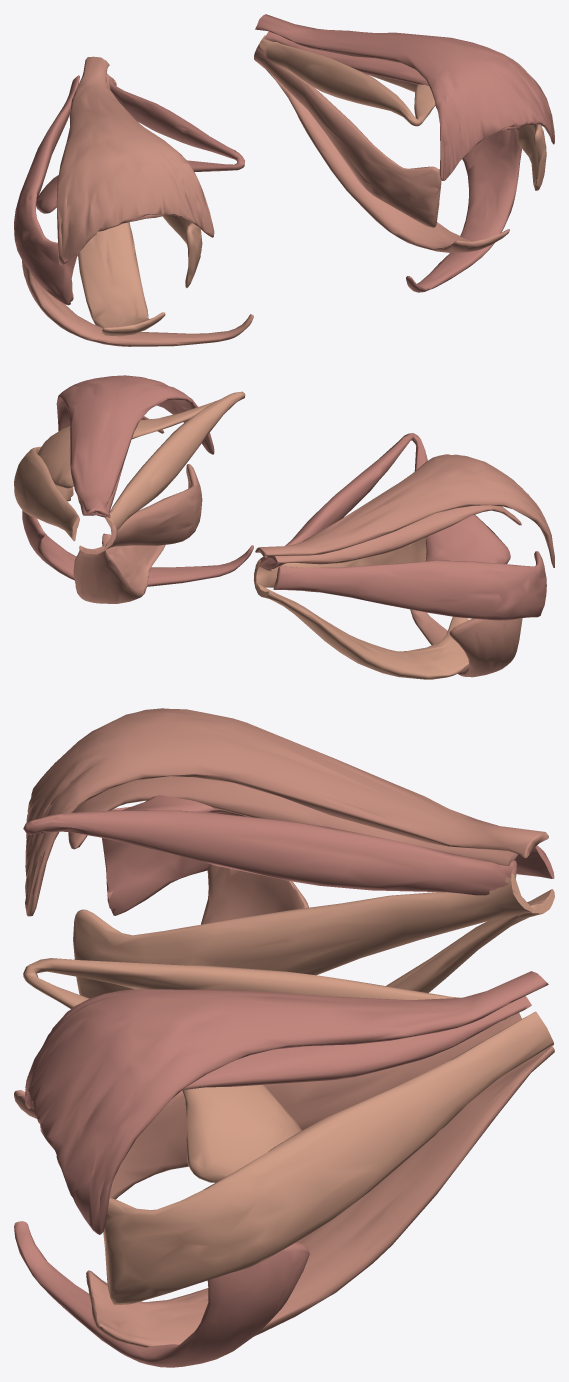
File: extraocular-muscles.glb
3 views of the same model, one above another, from view 1: azimuth 30°, elevation 25°; view 2: azimuth 150°, elevation 25°; view 3: azimuth 270°, elevation 25° (orthographic). The views are drawn at different scales.
Parts seen in each view (by area): view 1: FJ1357 Right levator palpebrae superioris, FJ1306 Left levator palpebrae superioris, FJ1308 Left medial rectus, FJ1294 Left inferior oblique, FJ1346 Right inferior rectus, FJ1355 Right lateral rectus, FJ1322 Left superior oblique, FJ1295 Left inferior rectus, FJ1373 Right superior oblique, FJ1345 Right inferior oblique, FJ1323 Left superior rectus, FJ1304 Left lateral rectus (+1 smaller); view 2: FJ1355 Right lateral rectus, FJ1357 Right levator palpebrae superioris, FJ1306 Left levator palpebrae superioris, FJ1322 Left superior oblique, FJ1373 Right superior oblique, FJ1346 Right inferior rectus, FJ1295 Left inferior rectus, FJ1308 Left medial rectus, FJ1345 Right inferior oblique, FJ1374 Right superior rectus, FJ1304 Left lateral rectus, FJ1294 Left inferior oblique (+1 smaller); view 3: FJ1306 Left levator palpebrae superioris, FJ1304 Left lateral rectus, FJ1357 Right levator palpebrae superioris, FJ1373 Right superior oblique, FJ1359 Right medial rectus, FJ1295 Left inferior rectus, FJ1322 Left superior oblique, FJ1294 Left inferior oblique, FJ1308 Left medial rectus, FJ1323 Left superior rectus, FJ1374 Right superior rectus, FJ1355 Right lateral rectus (+2 smaller).
Part boxes in pixels (<box>): FJ1357 Right levator palpebrae superioris: <box>56,56,214,264</box>; FJ1306 Left levator palpebrae superioris: <box>255,14,554,180</box>; FJ1308 Left medial rectus: <box>254,43,441,227</box>; FJ1294 Left inferior oblique: <box>406,129,521,292</box>; FJ1346 Right inferior rectus: <box>78,222,165,336</box>; FJ1355 Right lateral rectus: <box>14,75,79,305</box>; FJ1322 Left superior oblique: <box>260,35,435,126</box>; FJ1295 Left inferior rectus: <box>256,61,509,252</box>; FJ1373 Right superior oblique: <box>36,76,244,213</box>; FJ1345 Right inferior oblique: <box>22,260,253,346</box>; FJ1323 Left superior rectus: <box>264,31,520,133</box>; FJ1304 Left lateral rectus: <box>365,73,546,190</box>; FJ1355 Right lateral rectus: <box>273,551,546,620</box>; FJ1357 Right levator palpebrae superioris: <box>255,454,554,567</box>; FJ1306 Left levator palpebrae superioris: <box>56,375,214,516</box>; FJ1322 Left superior oblique: <box>38,391,245,529</box>; FJ1373 Right superior oblique: <box>259,433,510,570</box>; FJ1346 Right inferior rectus: <box>255,583,468,679</box>; FJ1295 Left inferior rectus: <box>73,533,165,603</box>; FJ1308 Left medial rectus: <box>104,464,202,549</box>; FJ1345 Right inferior oblique: <box>410,609,522,677</box>; FJ1374 Right superior rectus: <box>266,505,521,564</box>; FJ1304 Left lateral rectus: <box>14,446,79,541</box>; FJ1294 Left inferior oblique: <box>22,510,253,586</box>; FJ1306 Left levator palpebrae superioris: <box>24,971,548,1234</box>; FJ1304 Left lateral rectus: <box>103,1011,553,1304</box>; FJ1357 Right levator palpebrae superioris: <box>25,708,548,916</box>; FJ1373 Right superior oblique: <box>23,795,516,895</box>; FJ1359 Right medial rectus: <box>73,873,532,998</box>; FJ1295 Left inferior rectus: <box>86,1046,554,1347</box>; FJ1322 Left superior oblique: <box>23,958,508,1182</box>; FJ1294 Left inferior oblique: <box>14,1221,309,1367</box>; FJ1308 Left medial rectus: <box>109,1013,521,1199</box>; FJ1323 Left superior rectus: <box>183,996,531,1089</box>; FJ1374 Right superior rectus: <box>68,776,518,865</box>; FJ1355 Right lateral rectus: <box>102,807,554,915</box>.
Bounding box in the file's own units: 0.0869 × 0.0338 × 0.0473.
